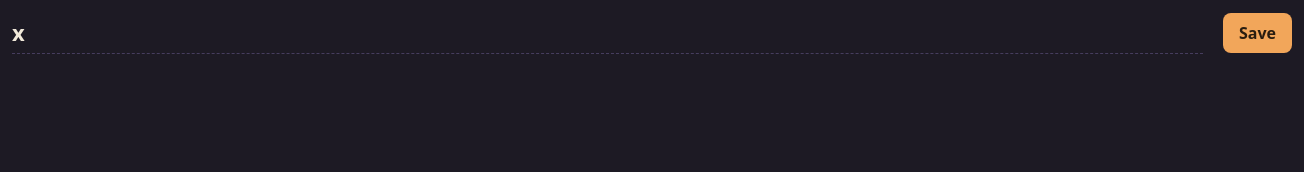
Test: SaveBar › shows the server's error message when saving fails
Click the button "Save" at coordinates (1258, 33), box [1223,13,1292,53]
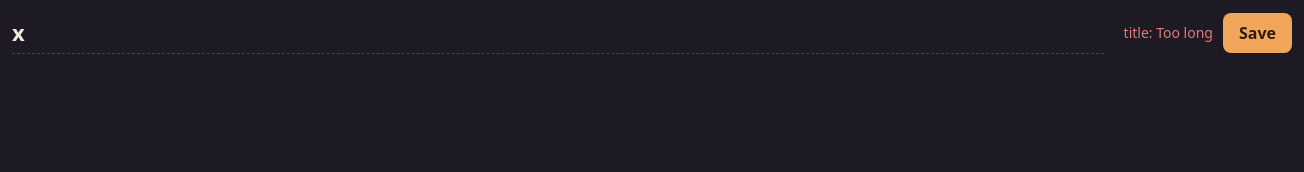
Now the message reads "title: Too long", box [1124,23,1213,42]
